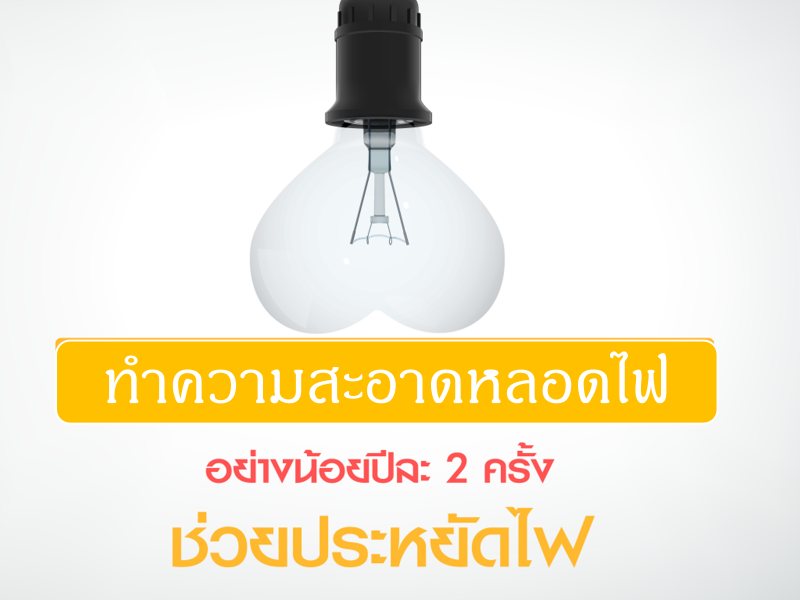Light_bulb: (251, 117, 523, 354)
